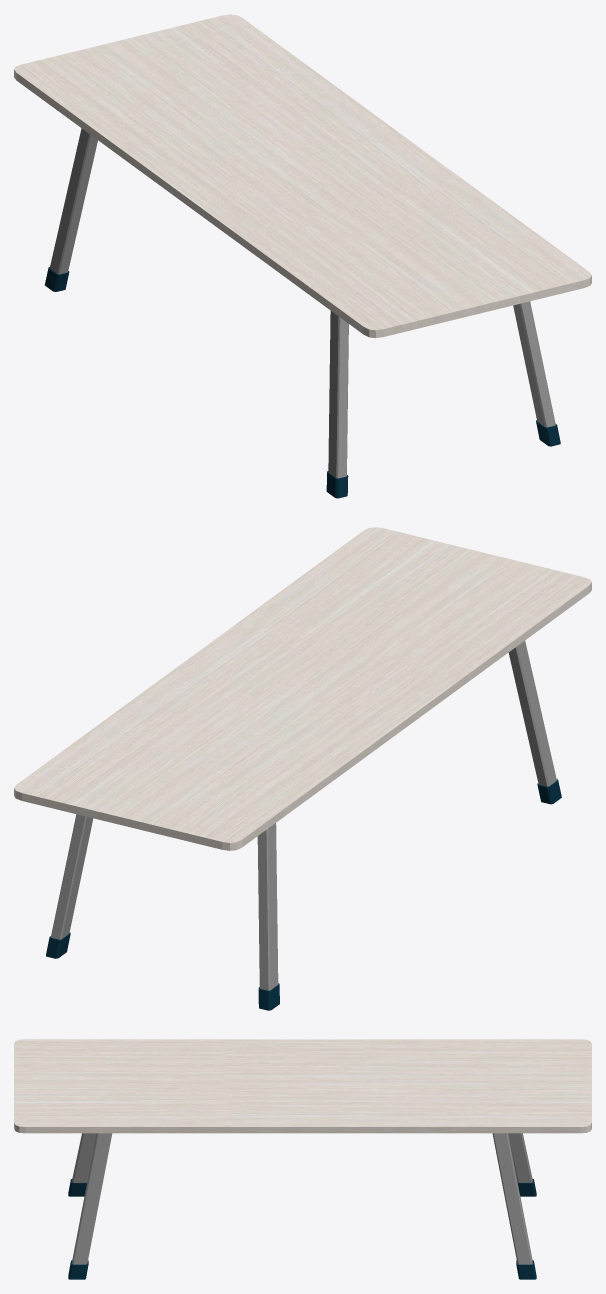
File: CK-zhuozi0005-CJBZ.FBX
3 renders of one model, top to bottom at view 1: azimuth 30°, elevation 25°; view 2: azimuth 150°, elevation 25°; view 3: azimuth 270°, elevation 25°, orthographic. The views are drawn at different scales.
Visible parts, largest first — view 1: CK-zhuozi0005-CJBZ; view 2: CK-zhuozi0005-CJBZ; view 3: CK-zhuozi0005-CJBZ.
Boxes of the visible parts, x1,y1,x2,y2 form: CK-zhuozi0005-CJBZ: [14, 14, 591, 498]; CK-zhuozi0005-CJBZ: [14, 527, 591, 1010]; CK-zhuozi0005-CJBZ: [14, 1039, 591, 1279].
Bounding box in the file's own units: 1.24 × 1 × 3.43.
3 materials, 1 textured.
